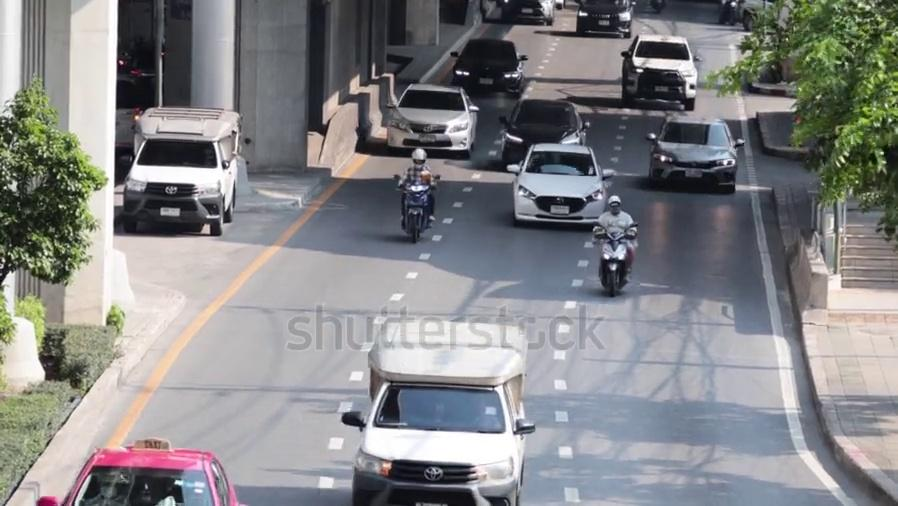rider: (596, 194, 635, 297), (396, 147, 433, 242)
with_helmate: (406, 147, 429, 166), (609, 196, 621, 214)
